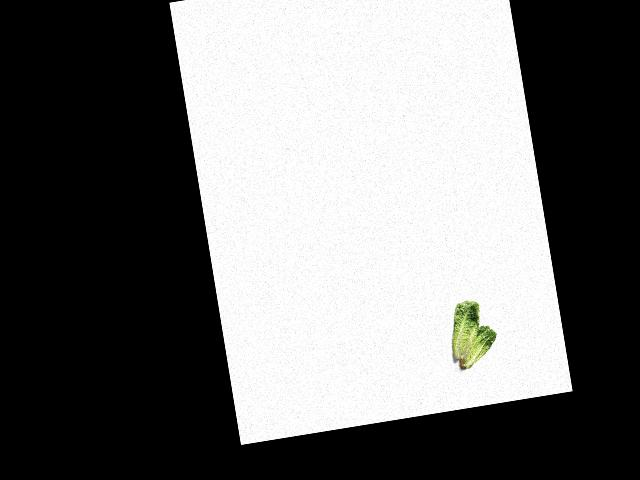lettuce: (452, 323, 502, 373)
